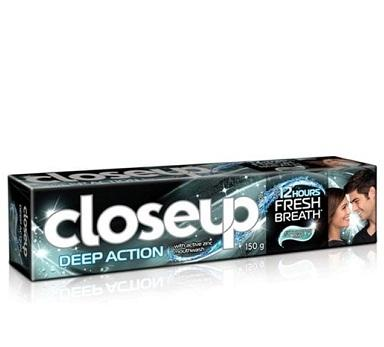CloseUp: (7, 154, 377, 281)
